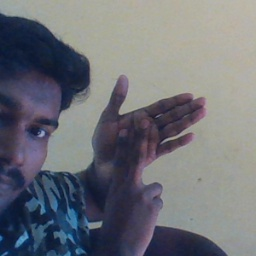N: (88, 72, 214, 222)
